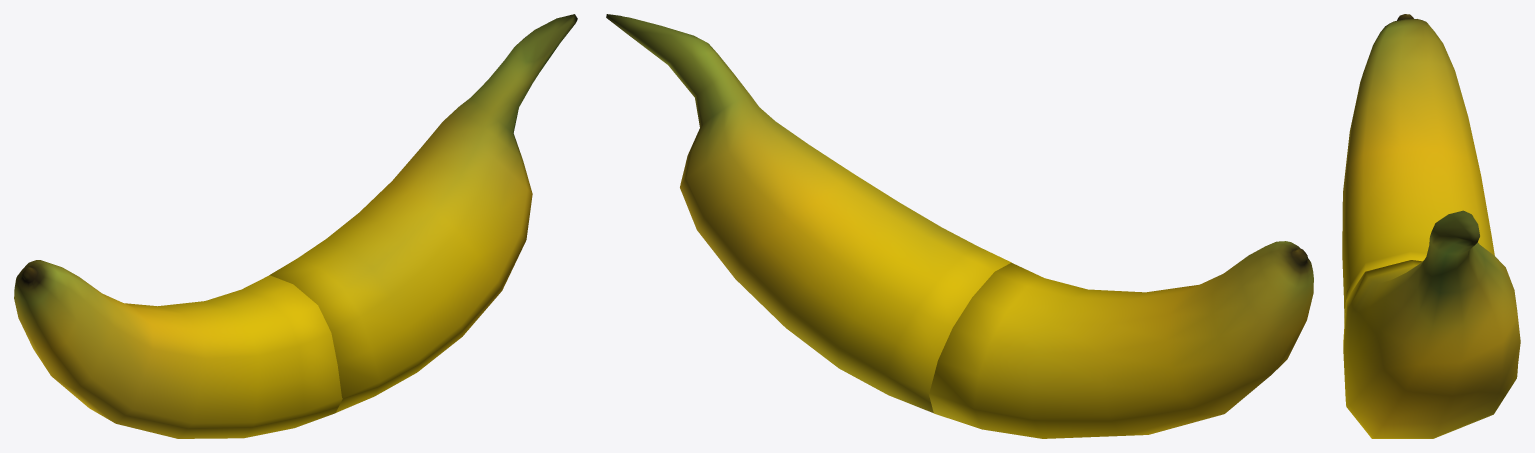
The model's file is 7_banan_kroshenny.fbx.
The picture shows the model from 3 angles, left to right: view 1: azimuth 30°, elevation 25°; view 2: azimuth 150°, elevation 25°; view 3: azimuth 270°, elevation 25°; orthographic projection. The views are drawn at different scales.
Parts seen in each view (by area): view 1: Куб, Куб.001; view 2: Куб, Куб.001; view 3: Куб, Куб.001.
Part boxes in pixels (x1,y1,x2,y2): Куб: (269, 14, 577, 412); Куб.001: (14, 260, 342, 438); Куб: (606, 14, 1011, 412); Куб.001: (928, 241, 1313, 438); Куб: (1343, 210, 1520, 438); Куб.001: (1342, 14, 1494, 323).
Bounding box in the file's own units: 32.7 × 16.02 × 7.43.
